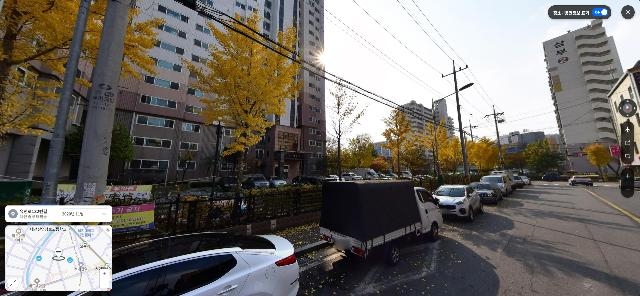ginkgo: (1, 0, 163, 171), (180, 0, 303, 221), (419, 109, 460, 186), (380, 107, 419, 180), (468, 140, 501, 178), (585, 145, 614, 177)
other: (317, 75, 366, 181), (61, 119, 136, 185), (522, 139, 566, 181), (342, 135, 376, 170), (176, 148, 202, 188)
